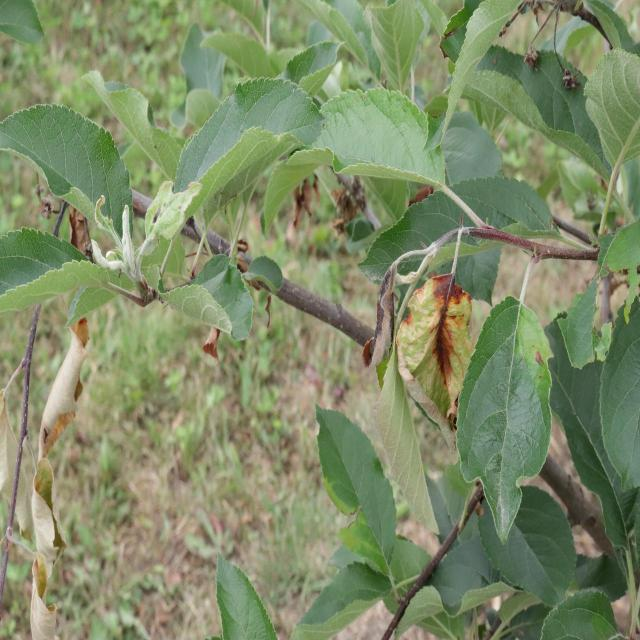-FireBlight-: (364, 236, 470, 429), (32, 428, 63, 640), (41, 327, 88, 458)
